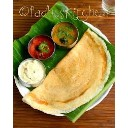dosa: (21, 27, 113, 118)
